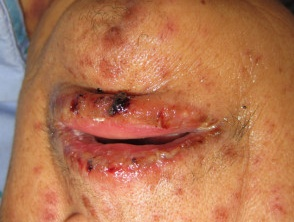SJS-TEN: (46, 83, 221, 186)
